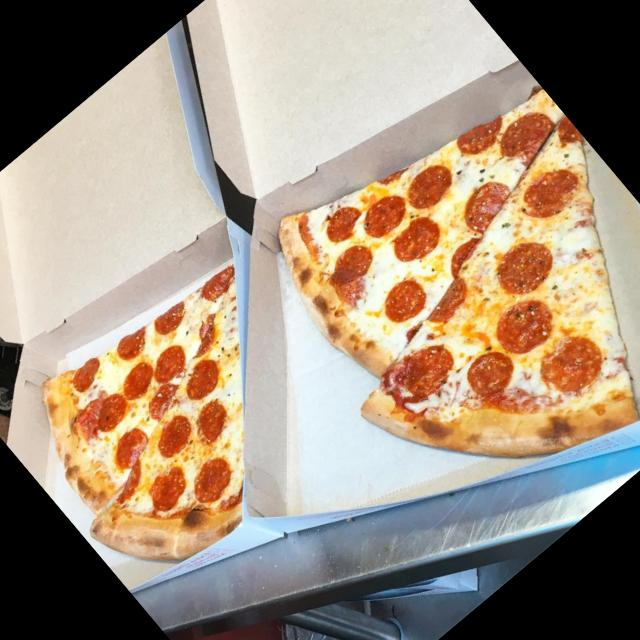pepperoni: (526, 320, 612, 406), (480, 286, 566, 371), (482, 223, 564, 304), (504, 155, 586, 236), (478, 99, 562, 178), (382, 328, 459, 403), (456, 337, 530, 411), (64, 378, 136, 449), (454, 168, 526, 238), (370, 266, 440, 336), (382, 204, 450, 271), (414, 267, 482, 332), (142, 403, 208, 468), (394, 155, 458, 220), (446, 106, 510, 168), (179, 450, 241, 512), (352, 184, 414, 246), (320, 233, 382, 294), (179, 392, 240, 452), (174, 305, 232, 361), (138, 459, 195, 514), (107, 352, 164, 407), (436, 225, 492, 280), (175, 350, 231, 404), (103, 421, 157, 474), (142, 294, 196, 346), (313, 198, 365, 248), (143, 336, 194, 386), (139, 376, 188, 424), (61, 351, 108, 396), (105, 320, 151, 364), (193, 263, 238, 307), (545, 113, 587, 156)
pizza: (278, 89, 640, 458), (43, 263, 248, 564)
